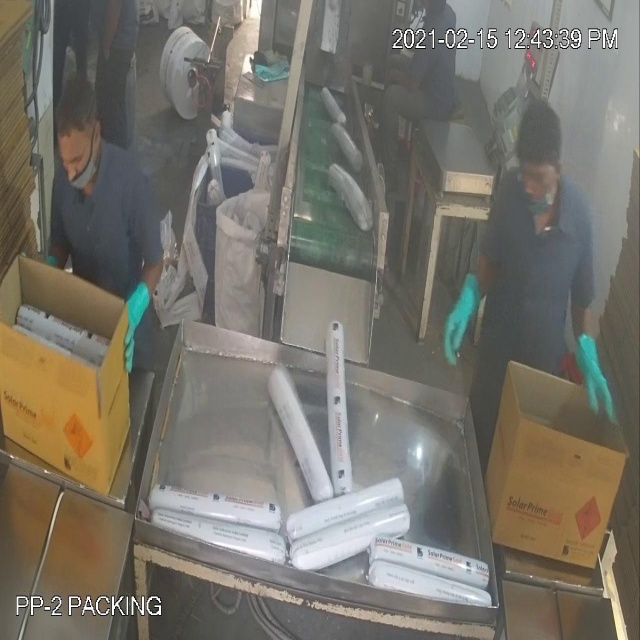Guantes: (102, 270, 158, 374), (567, 335, 622, 433), (432, 264, 480, 366)
Sin_guantes: (377, 65, 437, 109)
